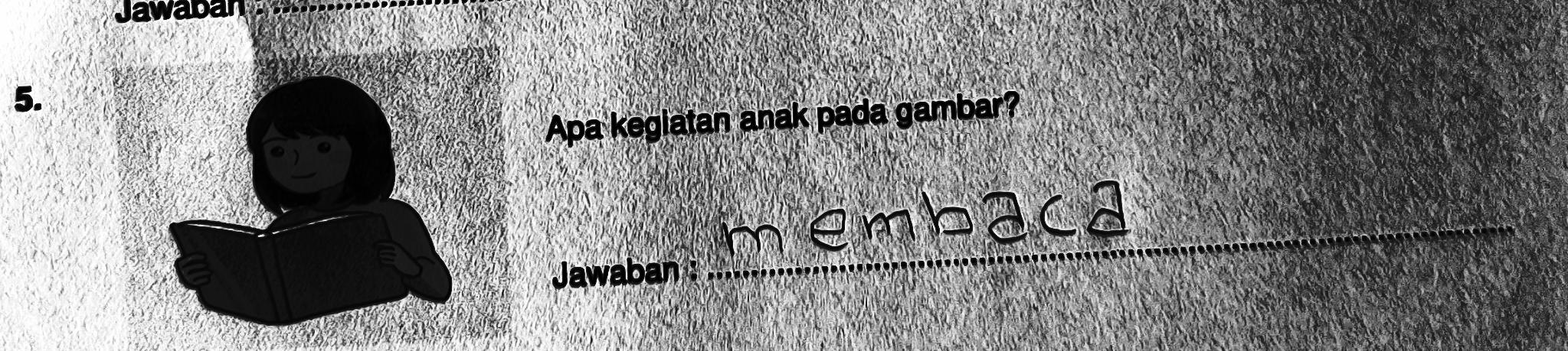jawaban: (717, 168, 1140, 272)
